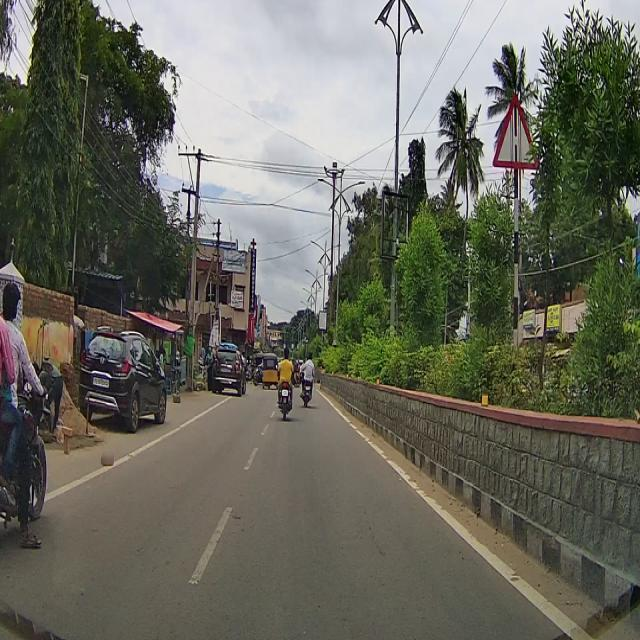gap-in-median: (494, 92, 540, 174)
